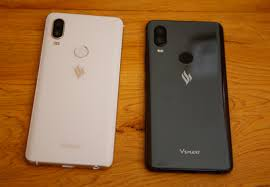vsmart: (27, 10, 120, 169), (143, 18, 233, 176)
